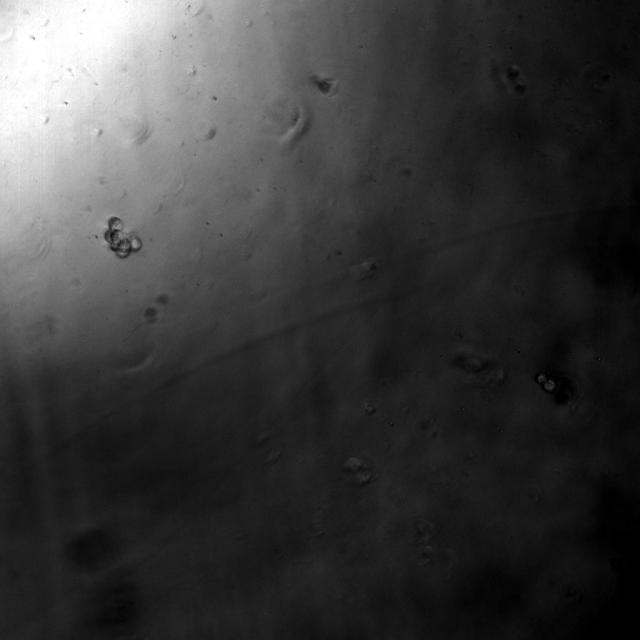organoid: (104, 217, 141, 257), (507, 65, 527, 96), (534, 372, 558, 393)
